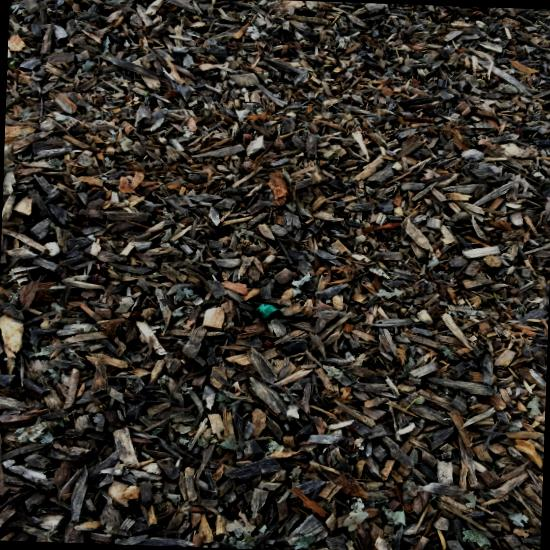Glass bottle: (1, 223, 12, 242)
Other plastic: (220, 228, 288, 250)
Plastic film: (506, 223, 547, 243)
Unlabeled litter: (260, 293, 309, 314), (382, 179, 401, 198), (2, 193, 38, 203), (530, 293, 550, 310), (131, 230, 141, 252)
